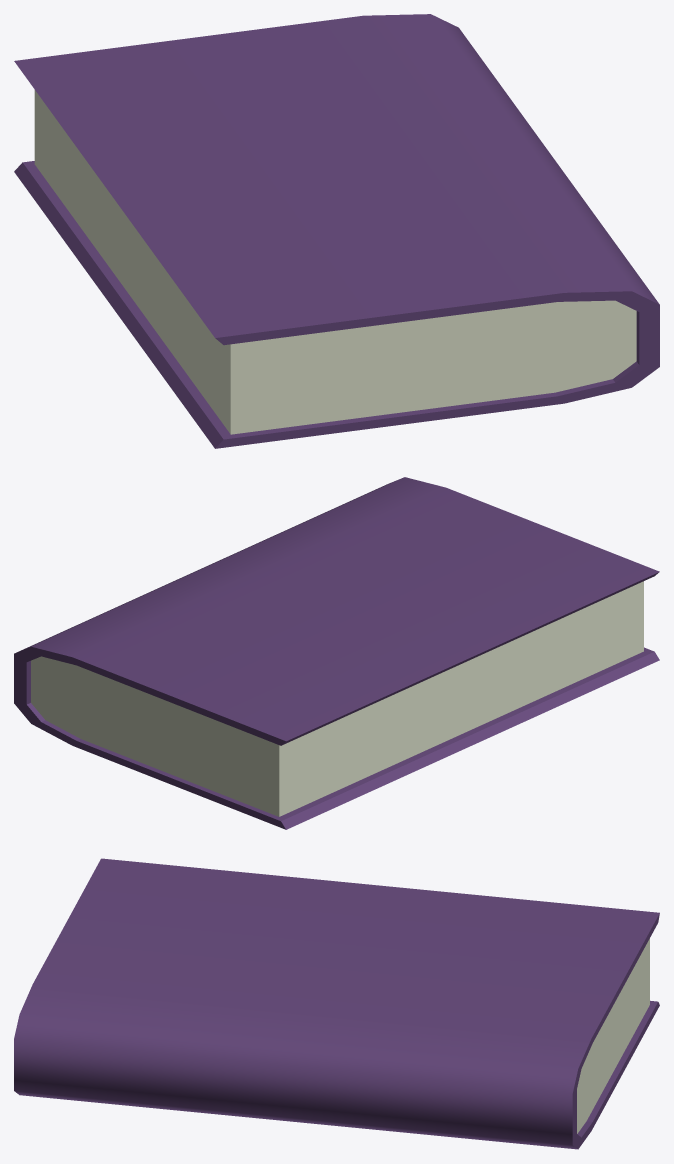
Rendered from book.fbx.
3 renders of one model, top to bottom at view 1: azimuth 30°, elevation 25°; view 2: azimuth 150°, elevation 25°; view 3: azimuth 270°, elevation 25°, orthographic. The views are drawn at different scales.
Parts seen in each view (by area): view 1: Cube.037; view 2: Cube.037; view 3: Cube.037.
Boxes of the visible parts, box(x1,y1,x2,y2) form: Cube.037: box(14, 14, 659, 448); Cube.037: box(14, 477, 659, 829); Cube.037: box(14, 858, 659, 1149).
Bounding box in the file's own units: 621 × 125 × 790.
